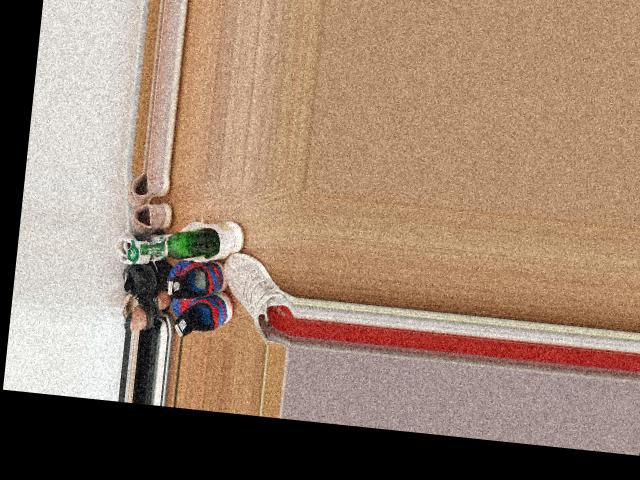beer: (140, 222, 221, 263)
